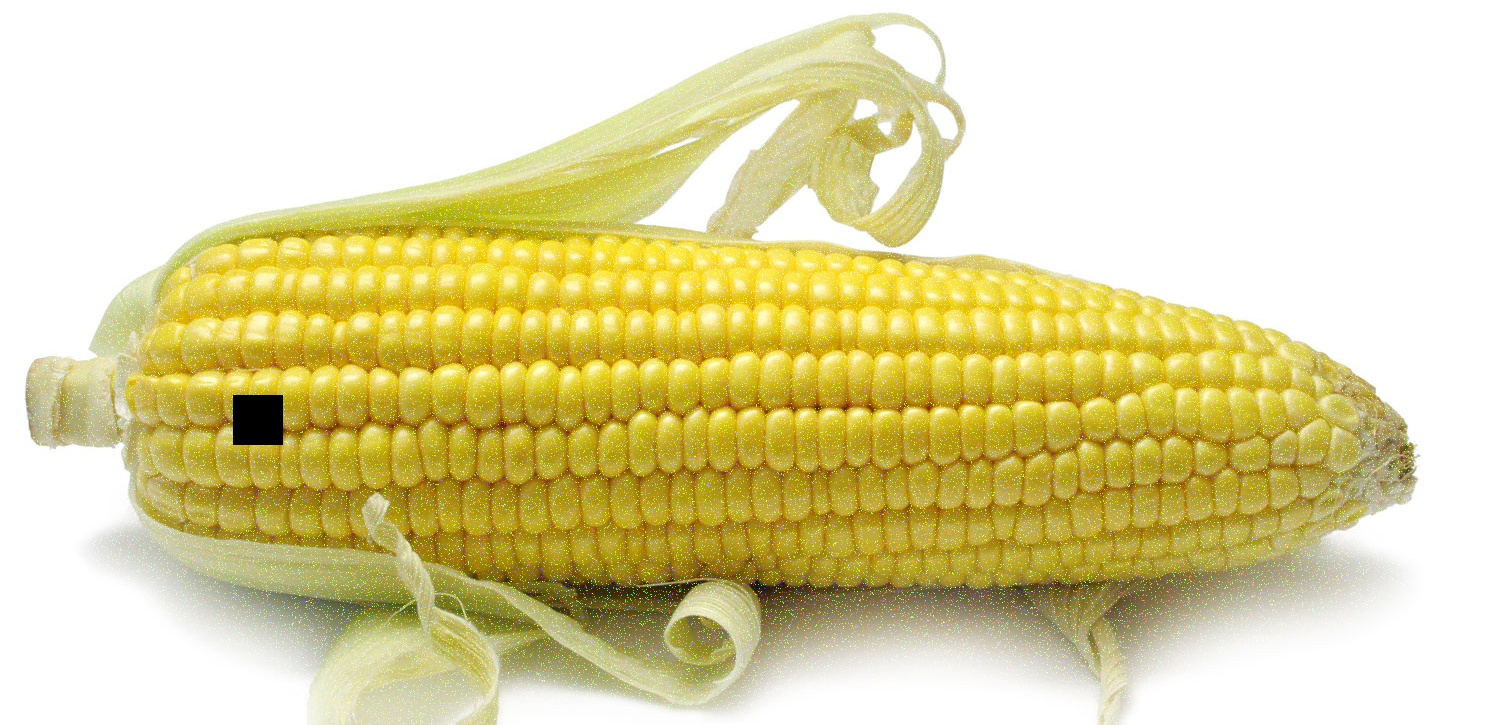corn: (23, 132, 1435, 635)
